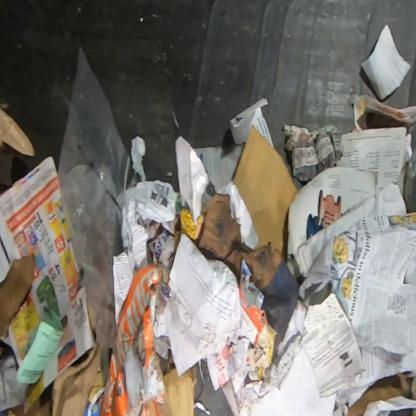cardboard: (197, 194, 300, 363), (97, 262, 169, 416), (232, 124, 300, 256), (51, 341, 103, 415), (156, 351, 199, 415), (348, 372, 410, 416), (87, 358, 104, 403)
soft_plastic: (57, 43, 131, 352)
